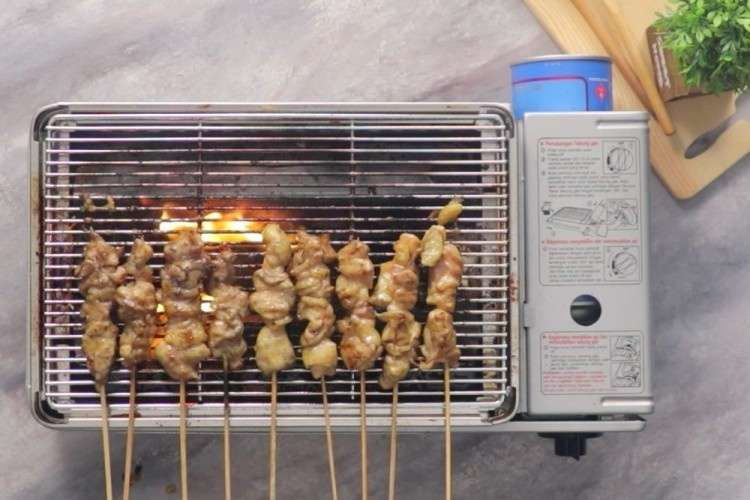sate: (377, 199, 464, 498), (154, 236, 244, 498), (292, 227, 374, 498), (77, 235, 159, 500), (252, 223, 295, 500)
